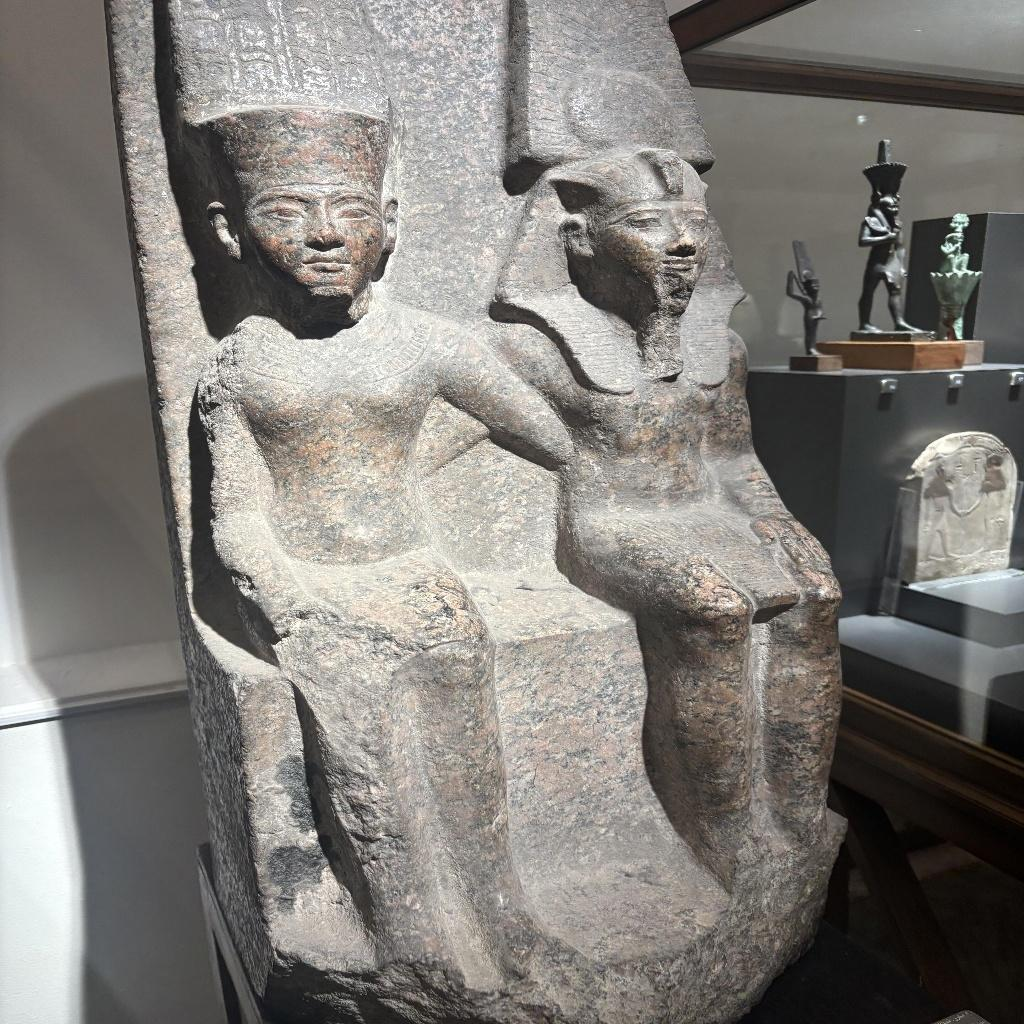Statue of Amun and King: (107, 57, 846, 1024)
